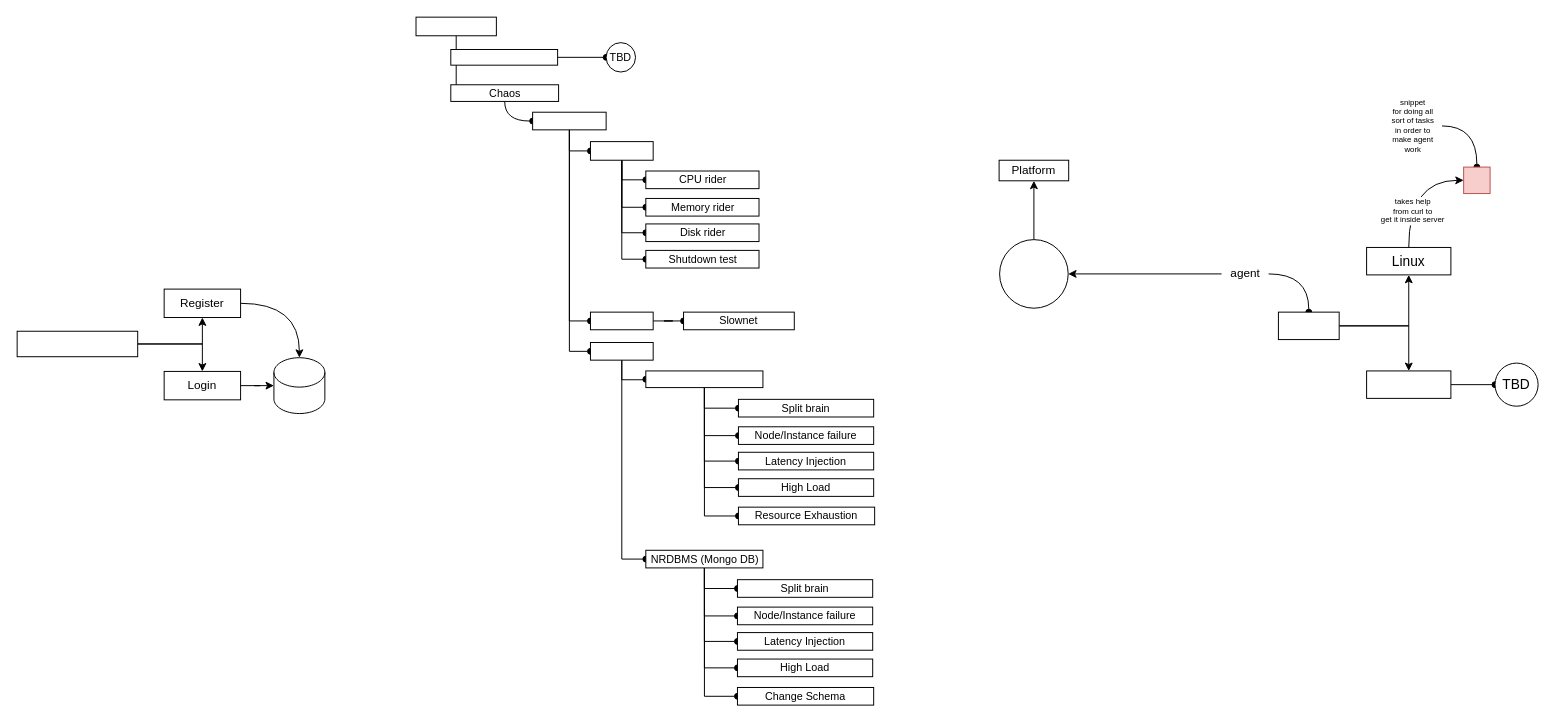
This 1555x722 diagram has some shape labels left out. The shapes that lost their labels are listed below. From the top down, each one's box as (x1, y1, x2, y2) in pixels, then its label:
(415, 16, 496, 36): Features
(450, 49, 558, 65): API Resiliency
(532, 111, 606, 130): Targets
(589, 141, 653, 160): Server Infra
(999, 239, 1068, 308): private hosting
(589, 311, 653, 330): Network
(1277, 311, 1339, 340): Mole
(16, 330, 138, 357): makeitable.in
(589, 342, 653, 360): Database
(273, 357, 325, 414): cUDB
(645, 370, 763, 388): RDBMS (MySQL)
(1366, 370, 1451, 398): Windows
